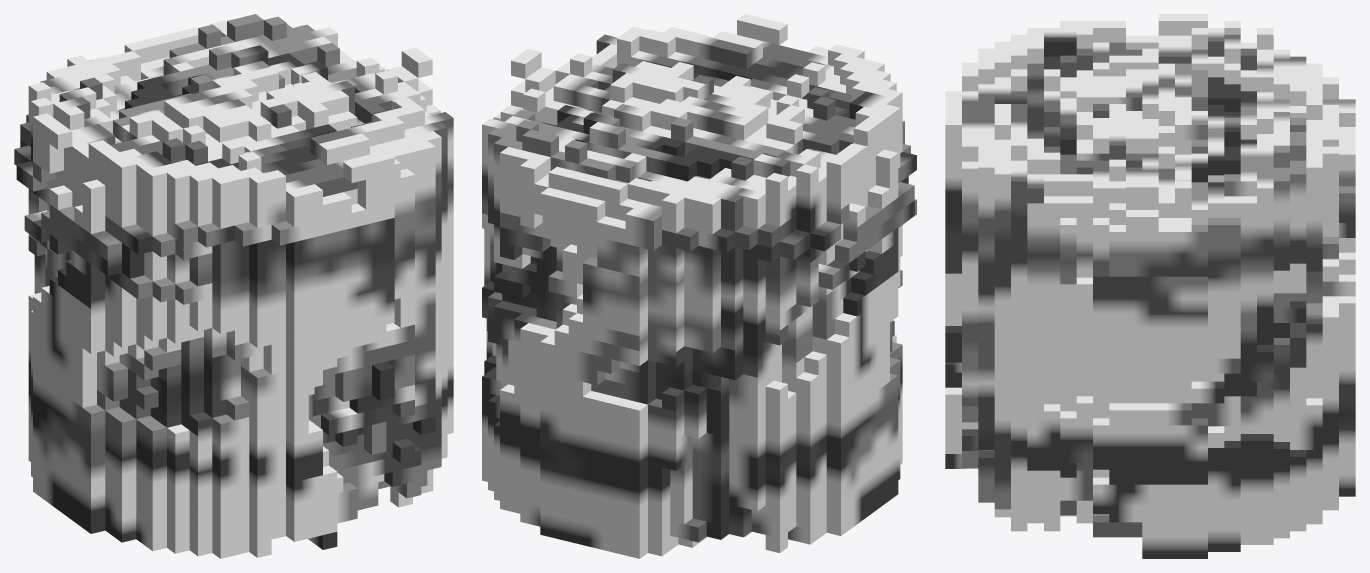
File: garbage_big_satellite2.fbx
The picture shows the model from 3 angles, left to right: view 1: azimuth 30°, elevation 25°; view 2: azimuth 150°, elevation 25°; view 3: azimuth 270°, elevation 25°; orthographic projection.
Visible parts, largest first — view 1: garbage_big_satellite2; view 2: garbage_big_satellite2; view 3: garbage_big_satellite2.
Part boxes in pixels (<box>): garbage_big_satellite2: <box>14,14,453,558</box>; garbage_big_satellite2: <box>482,14,916,558</box>; garbage_big_satellite2: <box>945,14,1355,558</box>.
Bounding box in the file's own units: 25 × 25 × 25.
